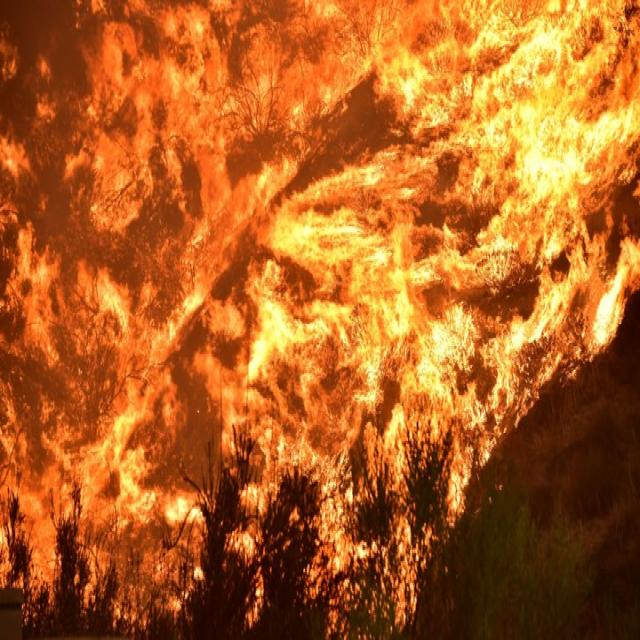fire: (246, 26, 629, 318), (190, 332, 478, 478), (30, 270, 158, 516)
